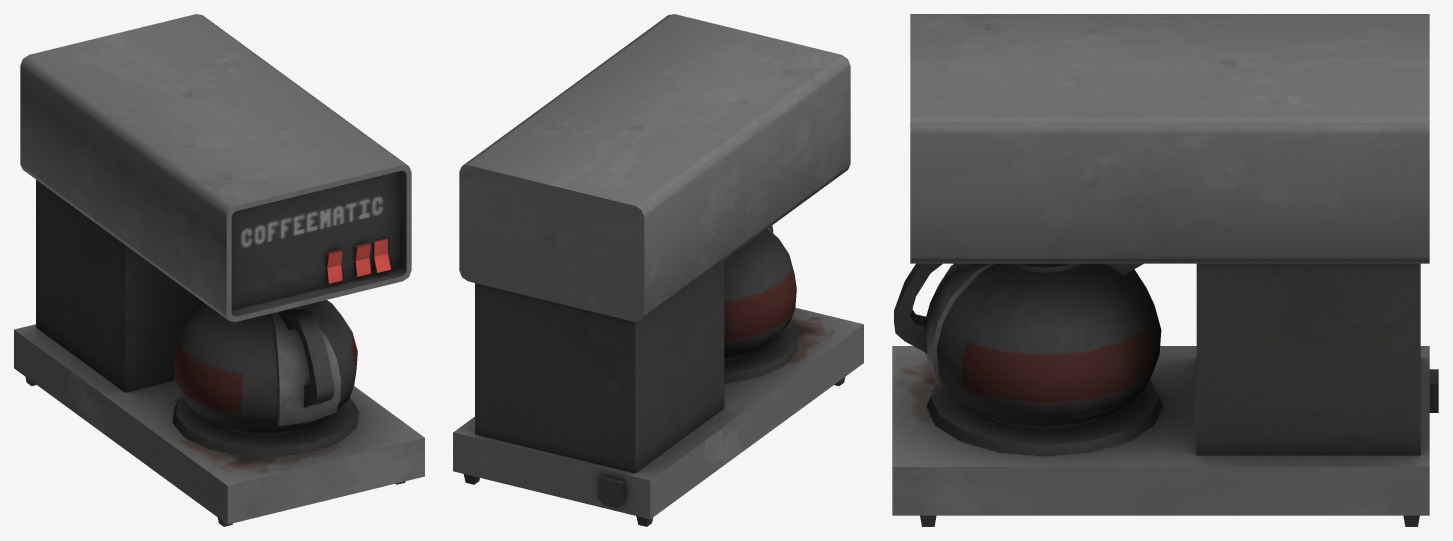
Rendered from cafe.obj.
3 views of the same model, side by side, from view 1: azimuth 30°, elevation 25°; view 2: azimuth 150°, elevation 25°; view 3: azimuth 270°, elevation 25° (orthographic). The views are drawn at different scales.
Visible parts, largest first — view 1: coffeemaker; view 2: coffeemaker; view 3: coffeemaker.
Part boxes in pixels (box(x1,y1,x2,y2)): coffeemaker: box(14, 14, 424, 526); coffeemaker: box(453, 14, 863, 526); coffeemaker: box(892, 14, 1438, 526).
Bounding box in the file's own units: 1.22 × 1.91 × 2.34.
Materials: 1 (1 with a texture image).
